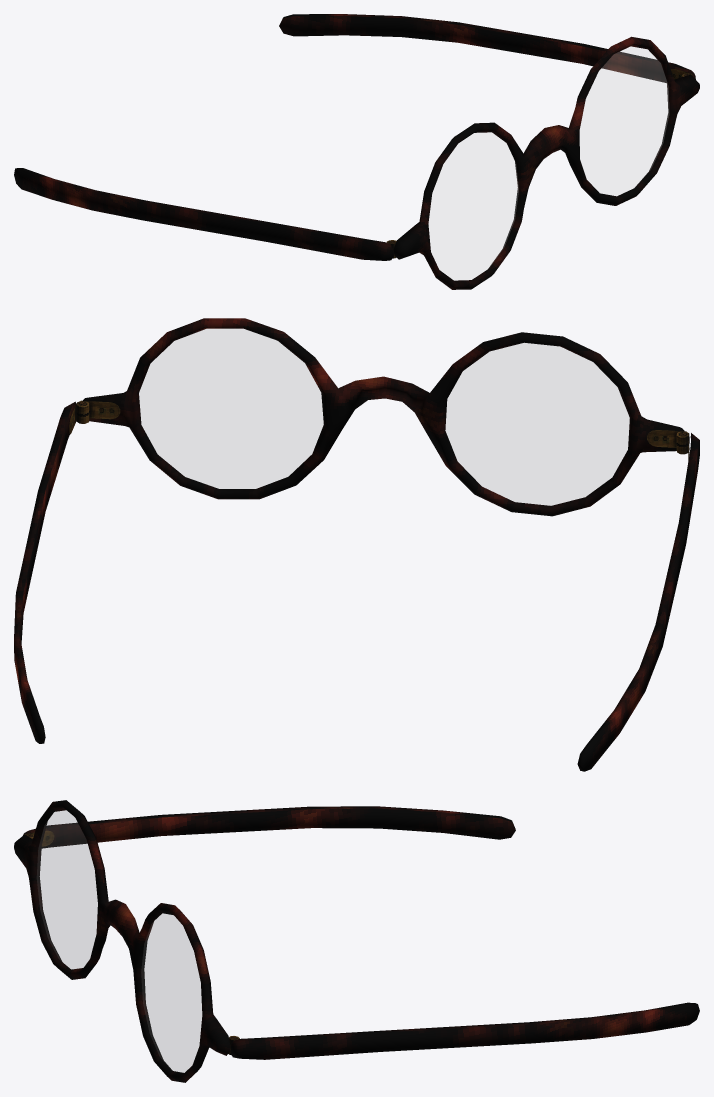
Rendered from lasit.glb.
3 views of the same model, one above another, from view 1: azimuth 30°, elevation 25°; view 2: azimuth 150°, elevation 25°; view 3: azimuth 270°, elevation 25° (orthographic). The views are drawn at different scales.
Visible parts, largest first — view 1: LasitLow; view 2: LasitLow; view 3: LasitLow.
Boxes of the visible parts, box(x1,y1,x2,y2) form: LasitLow: box(14, 14, 699, 289); LasitLow: box(14, 318, 699, 771); LasitLow: box(14, 800, 699, 1082).
Size of the model in its own units: 0.7847 by 0.2102 by 0.8001.
3 materials, 2 textured.
